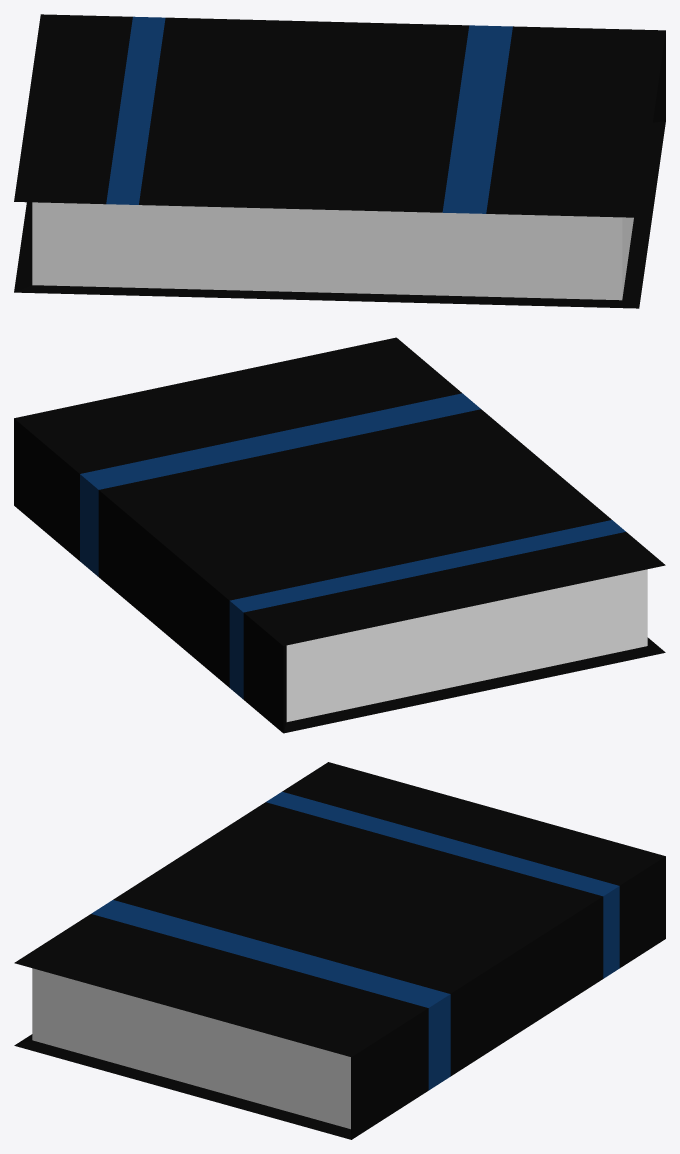
The model's file is book 2.fbx.
3 views of the same model, one above another, from view 1: azimuth 30°, elevation 25°; view 2: azimuth 150°, elevation 25°; view 3: azimuth 270°, elevation 25° (orthographic). The views are drawn at different scales.
Parts seen in each view (by area): view 1: polySurface1267; view 2: polySurface1267; view 3: polySurface1267.
Boxes of the visible parts, left/top/right/bottom form: polySurface1267: left=14, top=14, right=665, bottom=308; polySurface1267: left=14, top=337, right=665, bottom=733; polySurface1267: left=14, top=762, right=665, bottom=1139.
Size of the model in its own units: 1446 by 189 by 1349.
